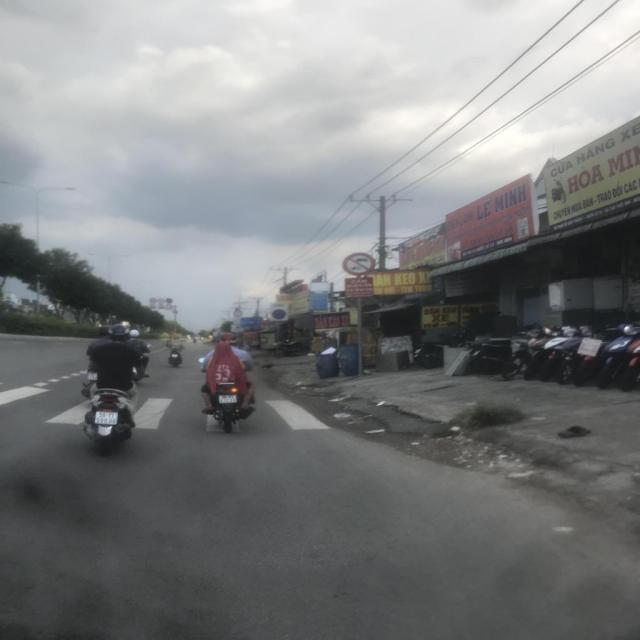cam_cac_loai_xe_3_banh: (343, 252, 375, 276)
cam_do_xe: (272, 308, 286, 320)
cam_dung_xe_va_do_xe: (165, 298, 172, 304)
cam_o_to_tai_va_xe_khach: (234, 311, 242, 317)
cam_xe_2_banh_va_xe_3_banh_co_dong_co: (165, 304, 173, 310)
khac: (149, 304, 156, 307), (157, 306, 164, 309), (151, 306, 156, 309), (158, 304, 165, 306)
lan_duong_cho_tung_xe_theo_vach_ke_duong: (241, 318, 261, 328)
toc_do_toi_da_60: (158, 298, 166, 304)
toc_do_toi_da_80: (150, 298, 158, 304)
